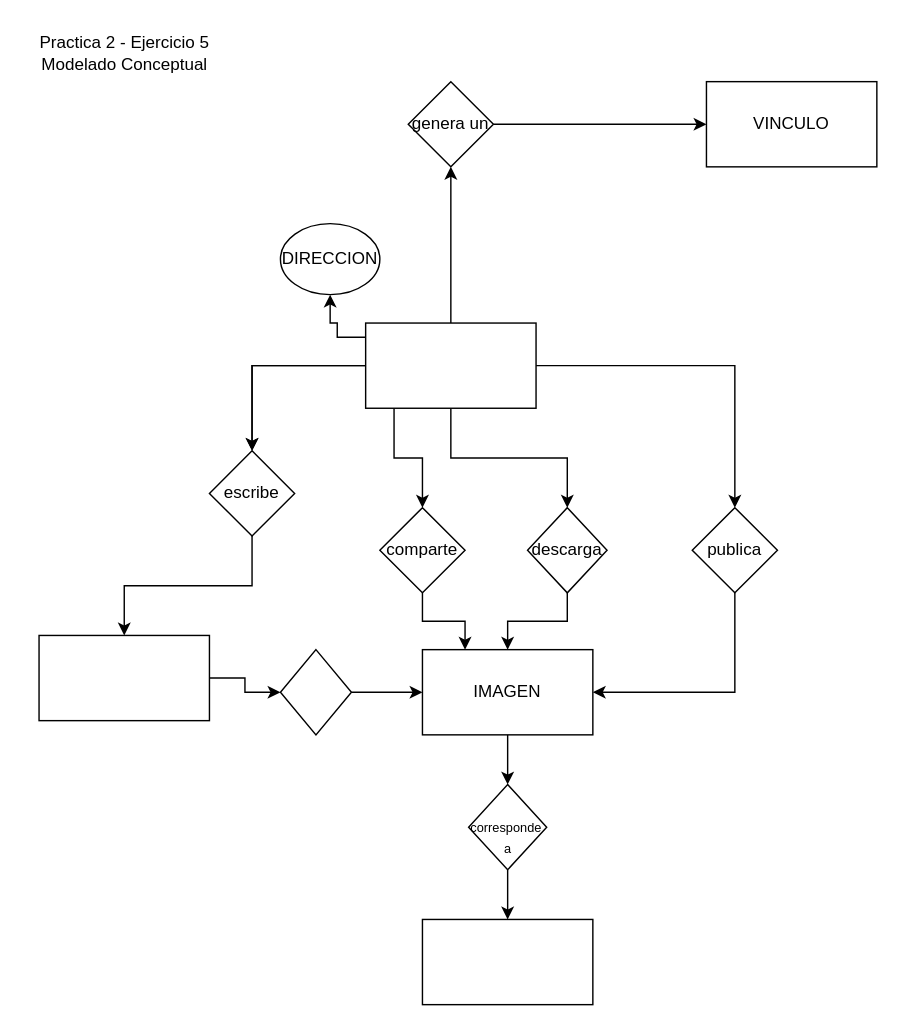
Some shapes in this 902 by 1030 pixel diagram are drawn without their labels. The box of each missing label's shape, as (x1, y1, x2, y2) in pixels:
COMENTARIO: (38, 634, 209, 721)
pertenece: (279, 648, 351, 735)
TEMATICA: (421, 918, 593, 1005)
USUARIO: (364, 322, 536, 408)
